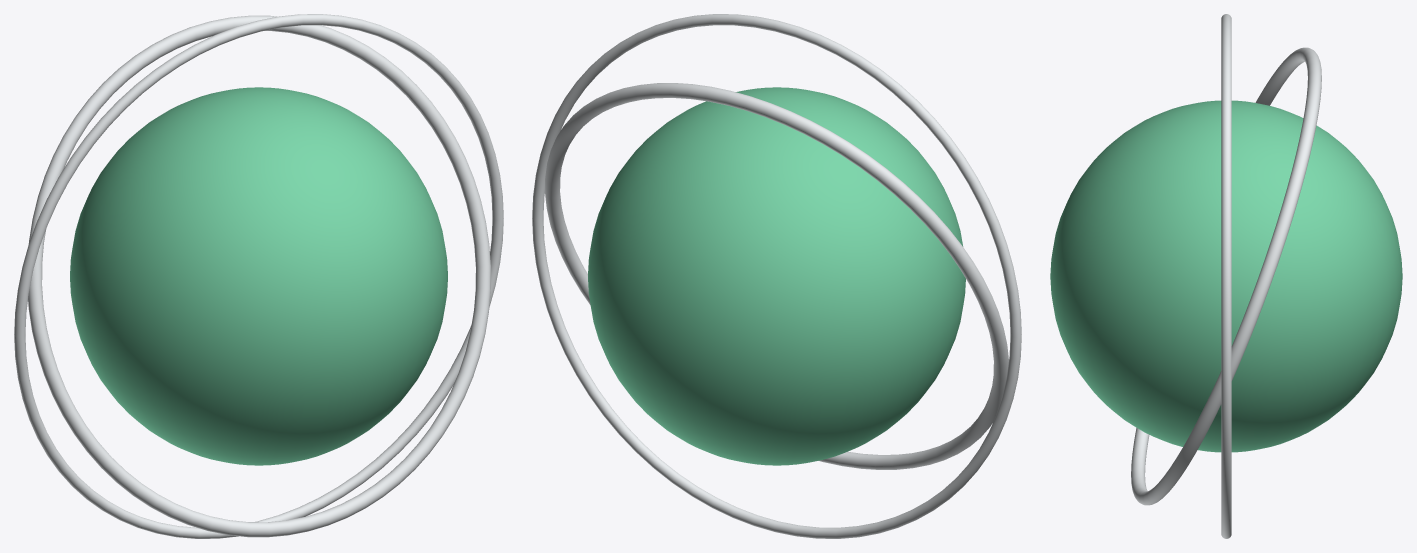
Rendered from akl-globe.glb.
3 views of the same model, side by side, from view 1: azimuth 30°, elevation 25°; view 2: azimuth 150°, elevation 25°; view 3: azimuth 270°, elevation 25° (orthographic). The views are drawn at different scales.
Parts seen in each view (by area): view 1: Globe, RingHorizontal, RingVertical; view 2: Globe, RingVertical, RingHorizontal; view 3: Globe, RingHorizontal, RingVertical.
Boxes of the visible parts, <box> form: Globe: <box>70,87,447,465</box>; RingHorizontal: <box>28,15,490,537</box>; RingVertical: <box>14,14,503,538</box>; Globe: <box>588,87,965,465</box>; RingVertical: <box>532,14,1021,538</box>; RingHorizontal: <box>545,83,1008,469</box>; Globe: <box>1050,100,1402,452</box>; RingHorizontal: <box>1131,47,1321,505</box>; RingVertical: <box>1221,14,1231,538</box>.
Size of the model in its own units: 2.98 by 2.98 by 2.
